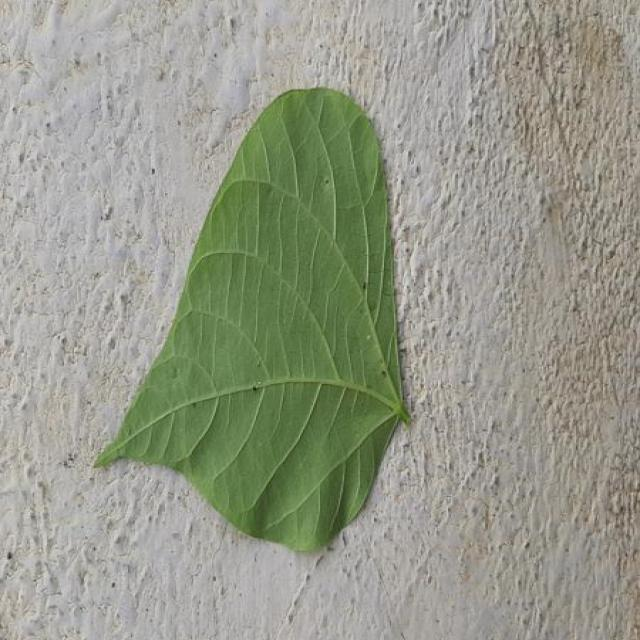beans: (95, 88, 408, 551)
